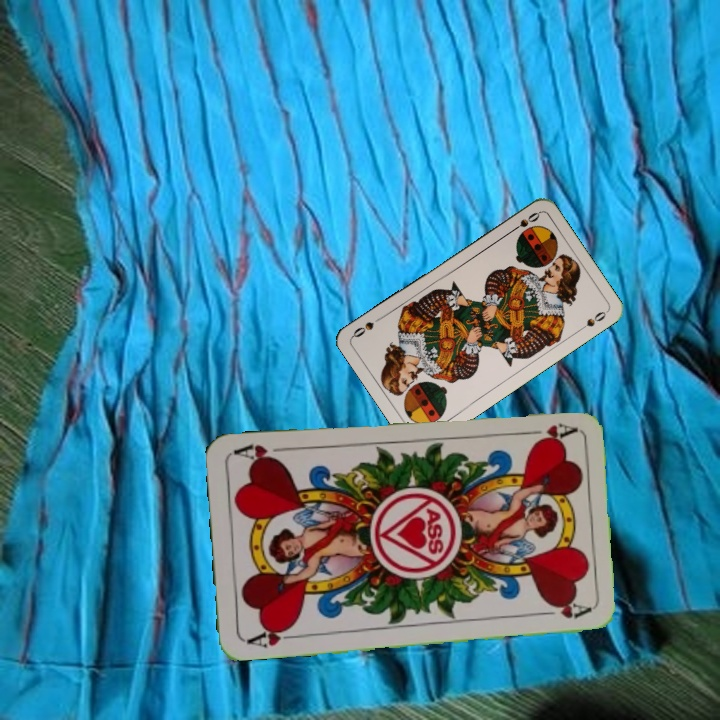HA: (242, 622, 301, 651), (519, 419, 578, 446)
SO: (506, 208, 542, 236)
